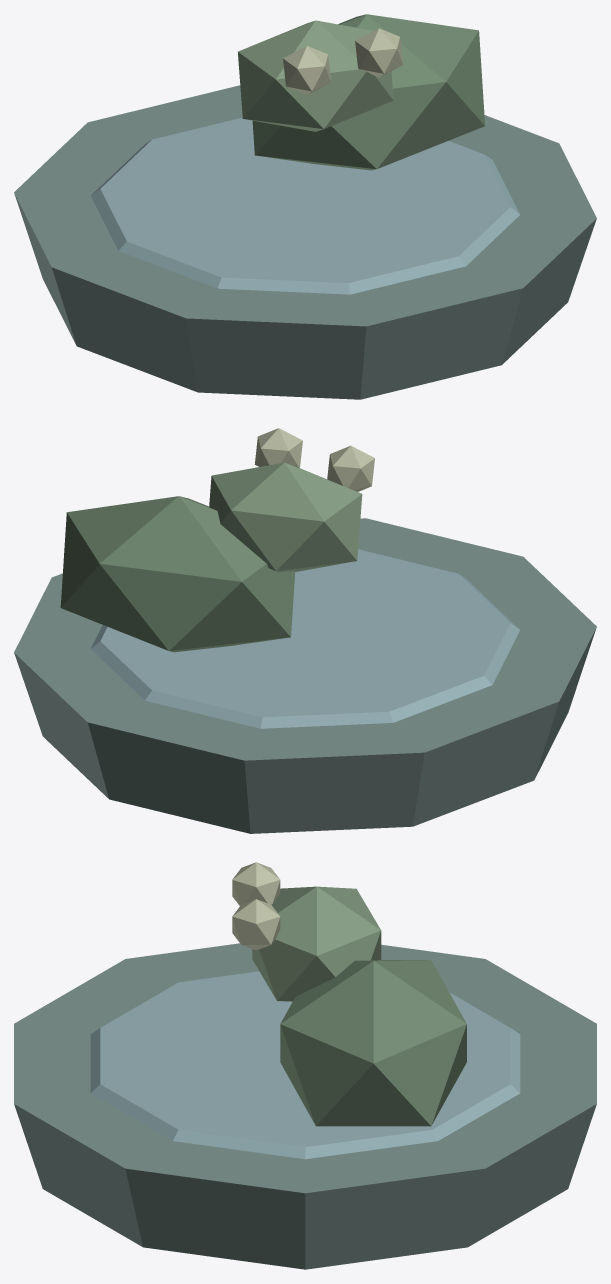
Rendered from map-exclusive-v3__lake_06.glb.
3 views of the same model, one above another, from view 1: azimuth 30°, elevation 25°; view 2: azimuth 150°, elevation 25°; view 3: azimuth 270°, elevation 25° (orthographic). The views are drawn at different scales.
Visible parts, largest first — view 1: lake_06; view 2: lake_06; view 3: lake_06.
Boxes of the visible parts, box(x1,y1,x2,y2) form: lake_06: box(14, 14, 596, 399); lake_06: box(14, 428, 596, 833); lake_06: box(14, 862, 596, 1269).
Size of the model in its own units: 1.62 by 0.815 by 1.54.
